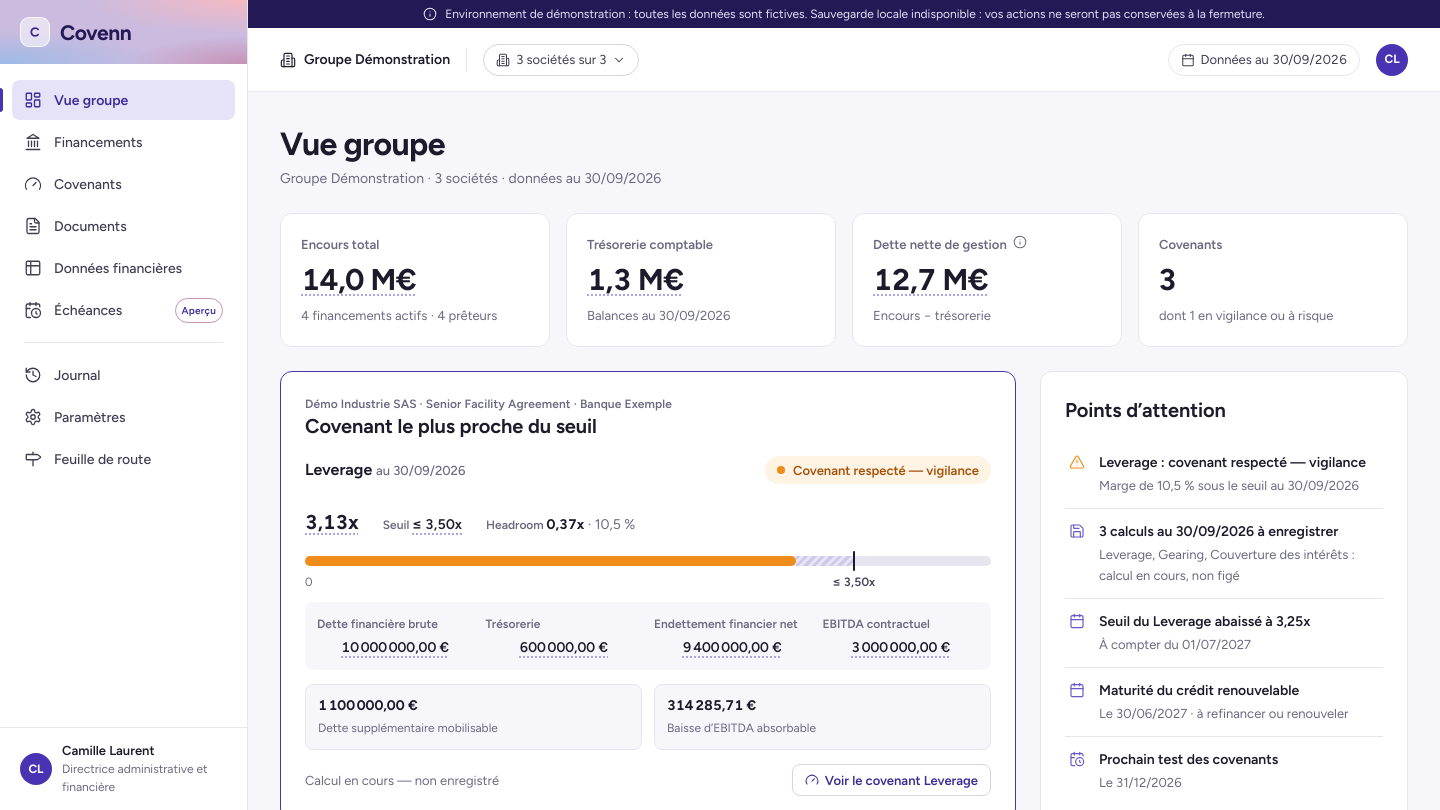
Scenario: routeur autonome (fichier ouvert directement ou aperçu encapsulé) › fonctionne quand l’adresse n’est ni lisible ni modifiable
Expected: the heading "Vue groupe" is shown, x1=280 y1=124 x2=445 y2=164
Step 1. Click the link "Financements" → click(83, 142), box x1=24 y1=133 x2=143 y2=151
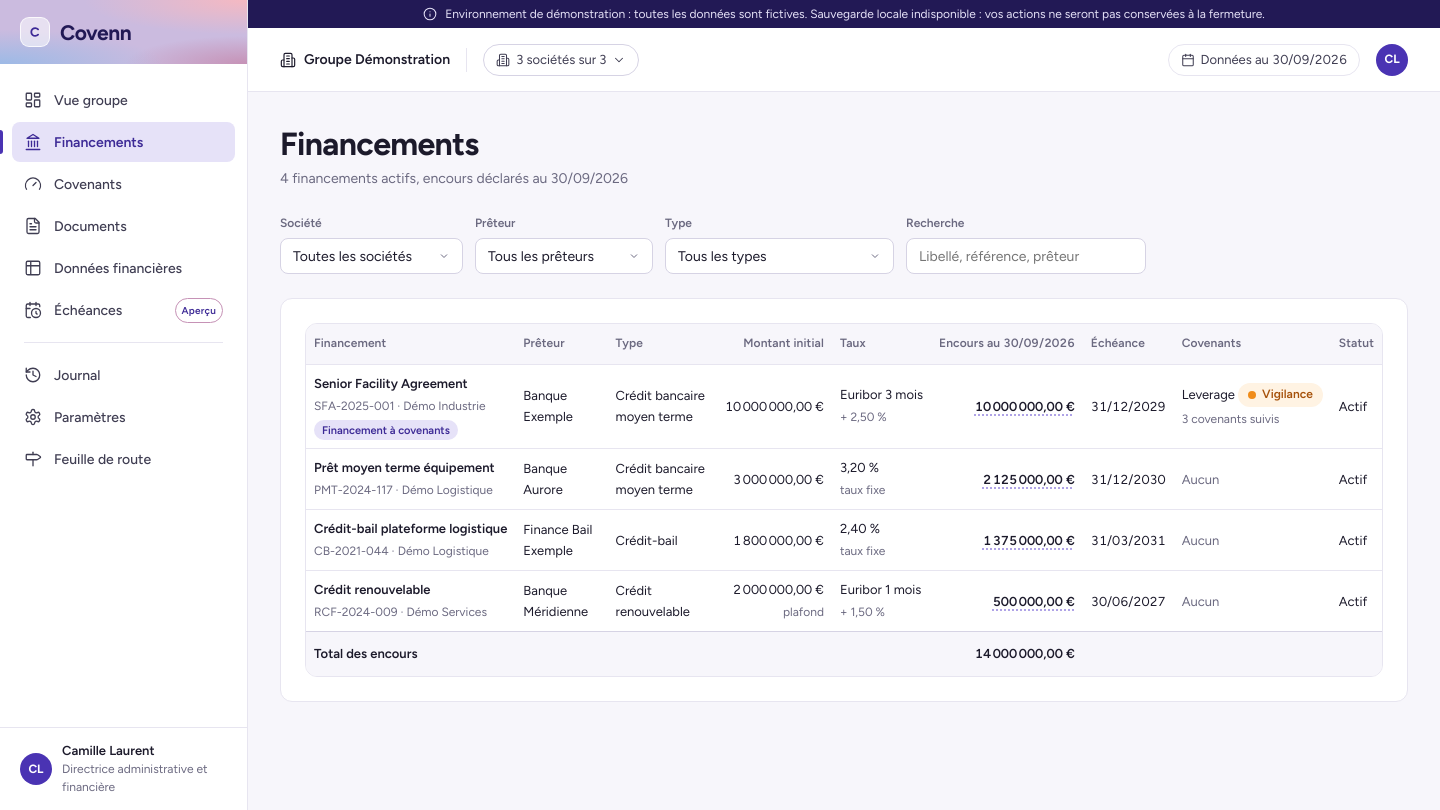
Expected: the heading "Financements" is shown, x1=280 y1=124 x2=479 y2=164
